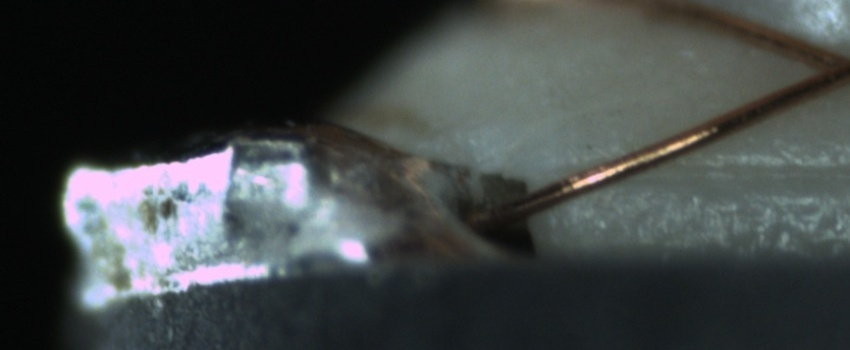CL: (794, 33, 849, 91)
DL: (611, 137, 846, 202)
